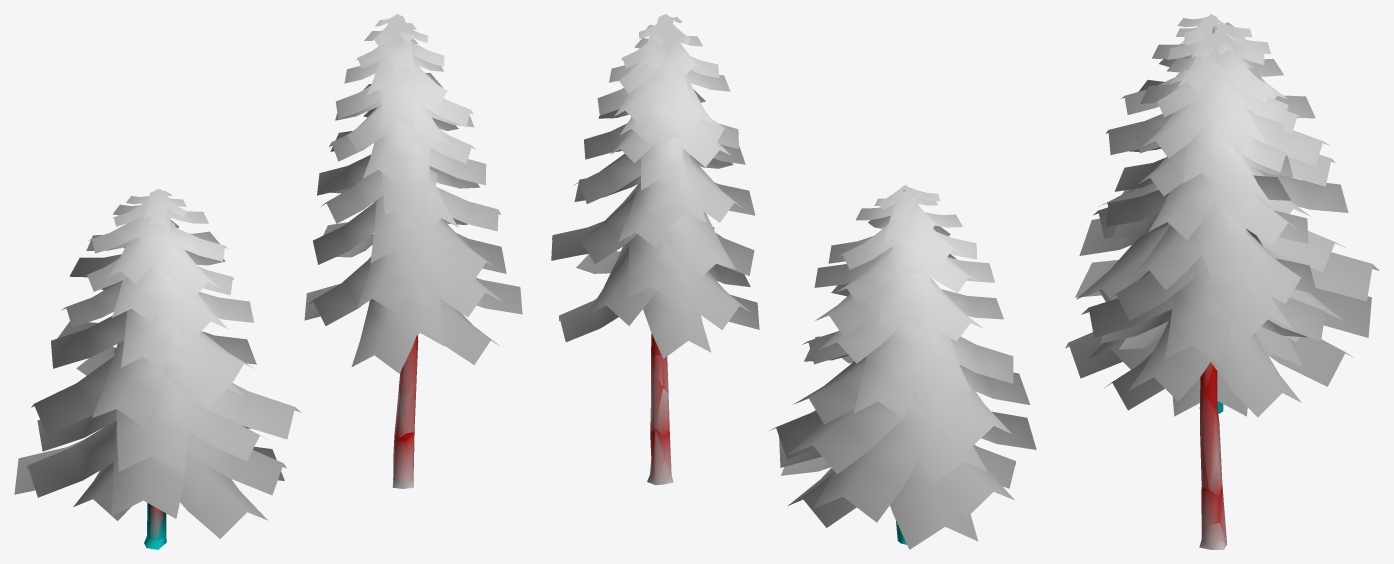
File: Tree.fbx
3 views of the same model, side by side, from view 1: azimuth 30°, elevation 25°; view 2: azimuth 150°, elevation 25°; view 3: azimuth 270°, elevation 25° (orthographic). The views are drawn at different scales.
Parts seen in each view (by area): view 1: Tree1_b, Tree2_b, Tree2_a, Tree1_a; view 2: Tree1_b, Tree2_b, Tree2_a; view 3: Tree2_b, Tree1_b, Tree2_a.
Boxes of the visible parts, x1,y1,x2,y2 form: Tree1_b: (14,189,301,538); Tree2_b: (304,14,522,373); Tree2_a: (392,18,418,488); Tree1_a: (144,503,166,549); Tree1_b: (768,185,1036,549); Tree2_b: (551,14,759,358); Tree2_a: (647,333,673,485); Tree2_b: (1081,17,1325,417); Tree1_b: (1065,14,1379,416); Tree2_a: (1199,26,1226,549).
Size of the model in its own units: 1334 by 1299 by 706.
